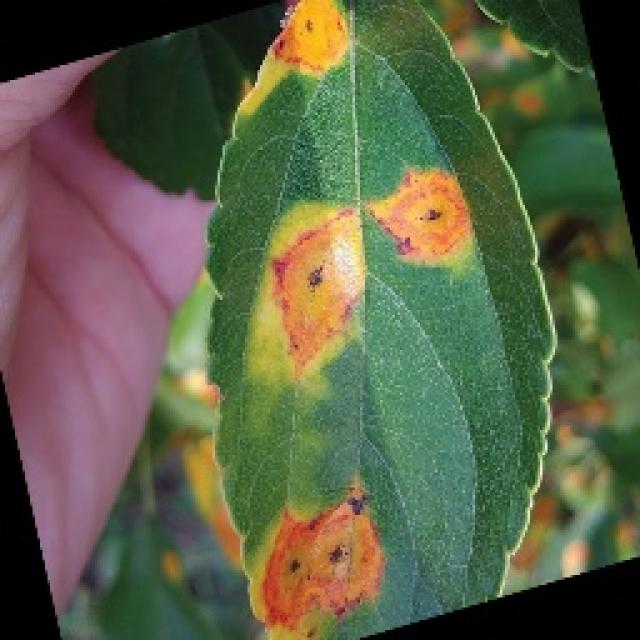Gymnosporangium_Rusts: (195, 0, 555, 638)
